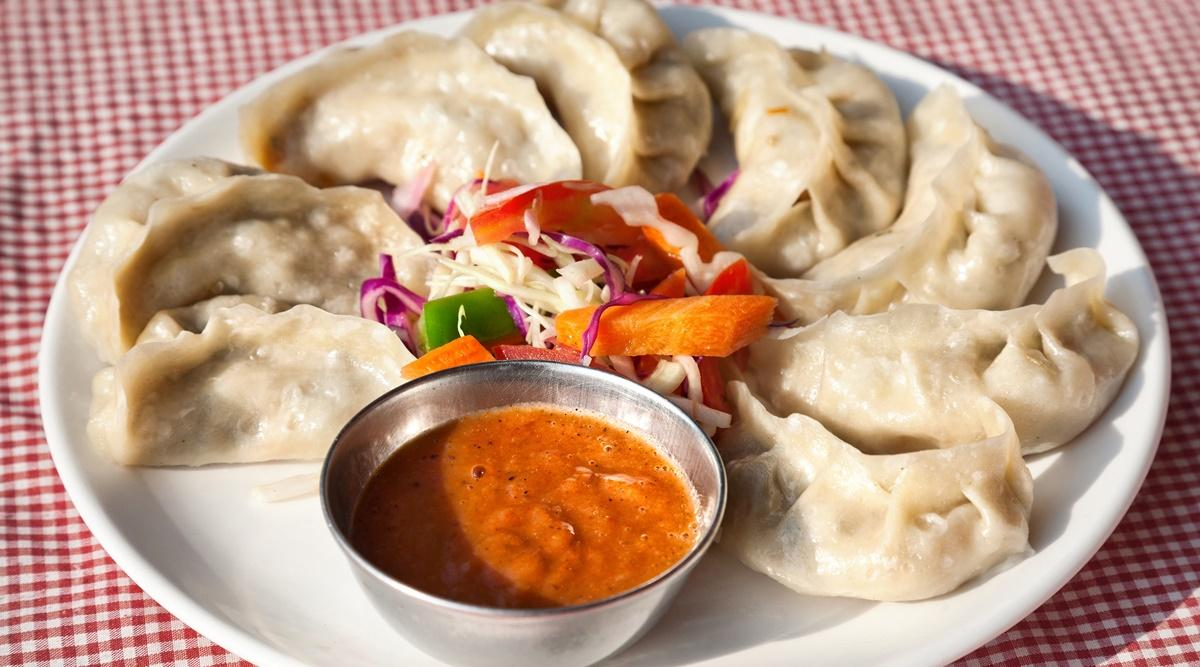momos: (68, 157, 422, 363), (748, 272, 1137, 455), (764, 87, 1057, 322), (720, 382, 1034, 600), (241, 30, 581, 216), (682, 30, 907, 278), (87, 305, 412, 465), (464, 0, 712, 192)
